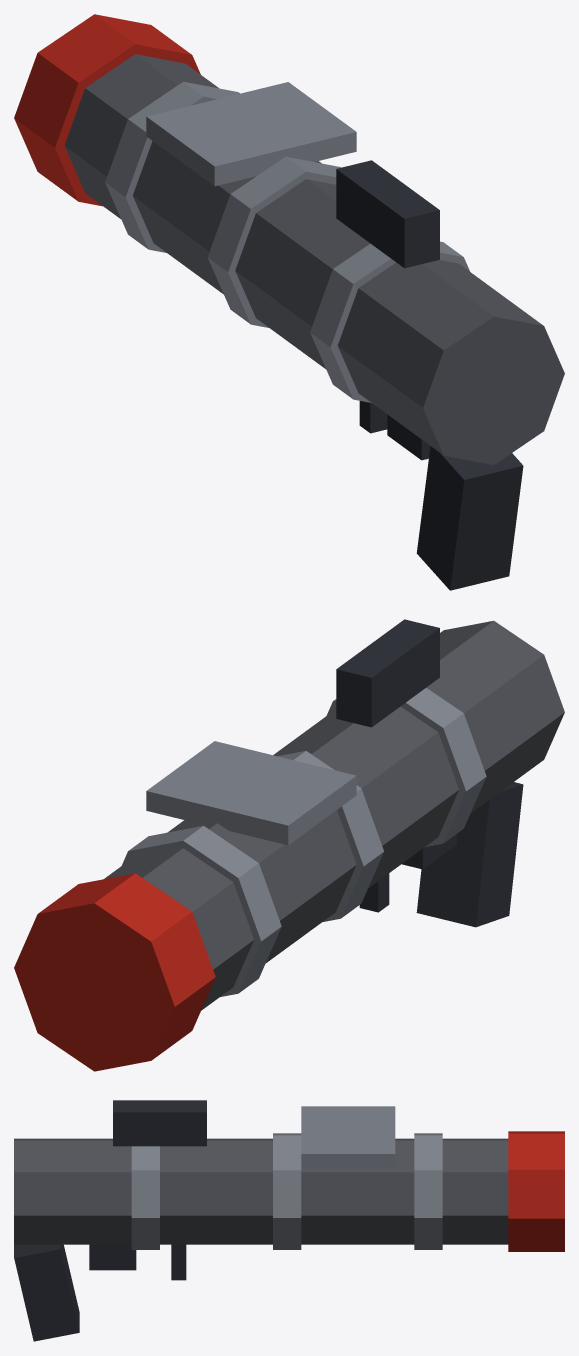
Rendered from launcher.glb.
3 renders of one model, top to bottom at view 1: azimuth 30°, elevation 25°; view 2: azimuth 150°, elevation 25°; view 3: azimuth 270°, elevation 25°, orthographic. The views are drawn at different scales.
Parts seen in each view (by area): view 1: Launcher, Cap; view 2: Launcher, Cap; view 3: Launcher, Cap.
Part boxes in pixels (bbox=[...]): Launcher: bbox=[64, 54, 564, 590]; Cap: bbox=[14, 14, 200, 206]; Launcher: bbox=[104, 619, 564, 1010]; Cap: bbox=[14, 873, 215, 1071]; Launcher: bbox=[14, 1100, 508, 1341]; Cap: bbox=[508, 1131, 564, 1251].
Bounding box in the file's own units: 0.136 × 0.2641 × 0.585.
